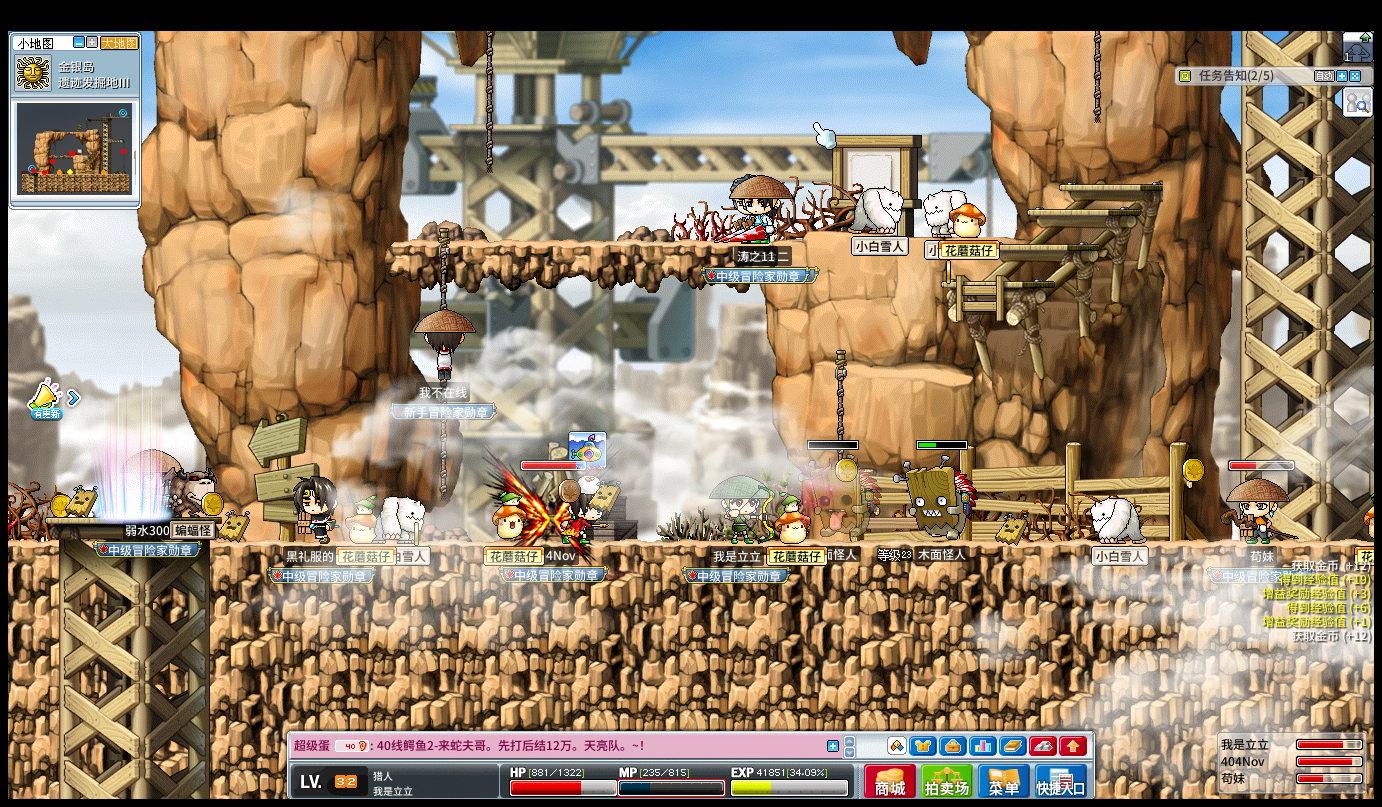floor: (389, 238, 767, 249), (863, 364, 974, 382), (46, 517, 221, 525), (937, 280, 1052, 288), (1024, 207, 1135, 214), (985, 243, 1094, 250), (1058, 184, 1162, 191), (6, 538, 58, 550)
monster: (901, 460, 976, 538)
rope: (484, 30, 493, 171), (833, 348, 845, 441), (435, 227, 448, 310), (1091, 29, 1100, 121), (438, 426, 448, 502)
